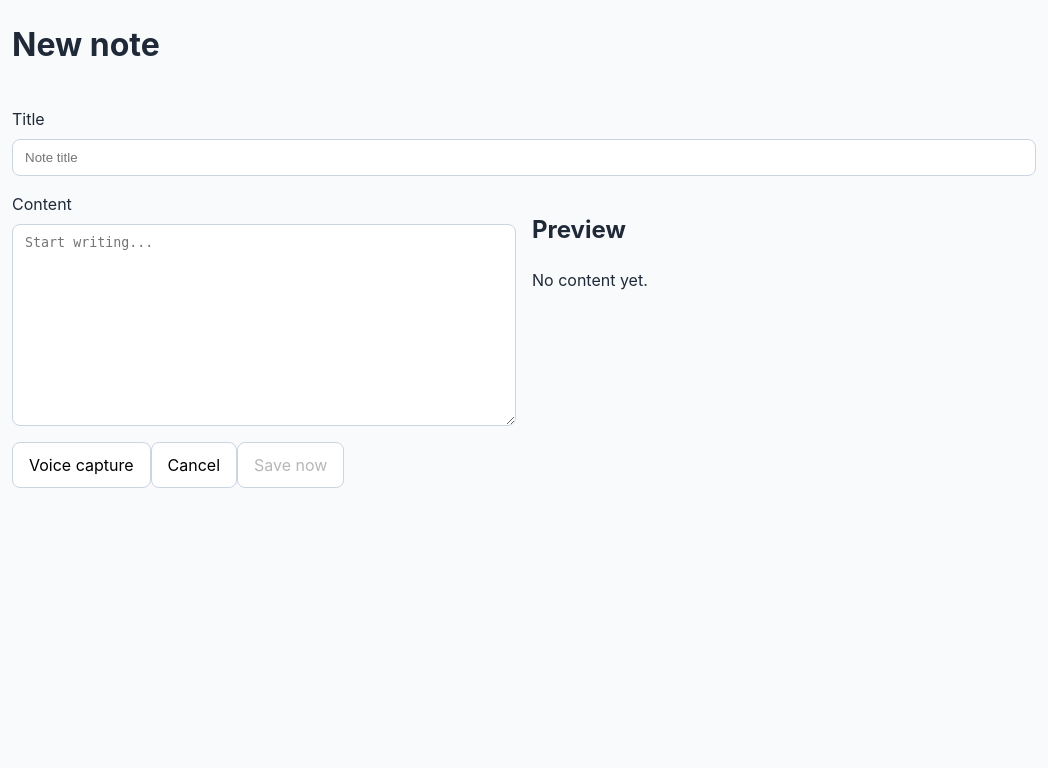
Test: NoteEditorPage API wiring › shows conflict resolution actions after a sync conflict
This screenshot has width=1048, height=768.
Type "Conflict note" into the field with placeholder "Note title" at x=524, y=157, box 12,139 -> 1036,176
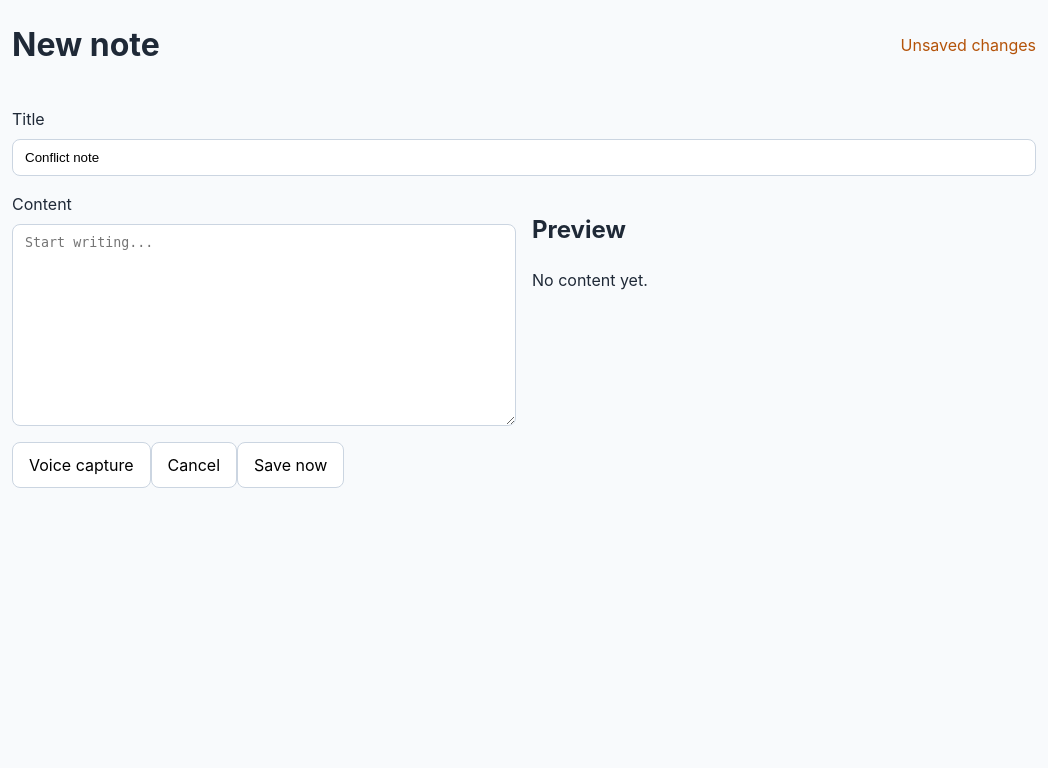
Type "Local edit" into the text box with placeholder "Start writing..." at x=264, y=325, box 12,224 -> 516,426
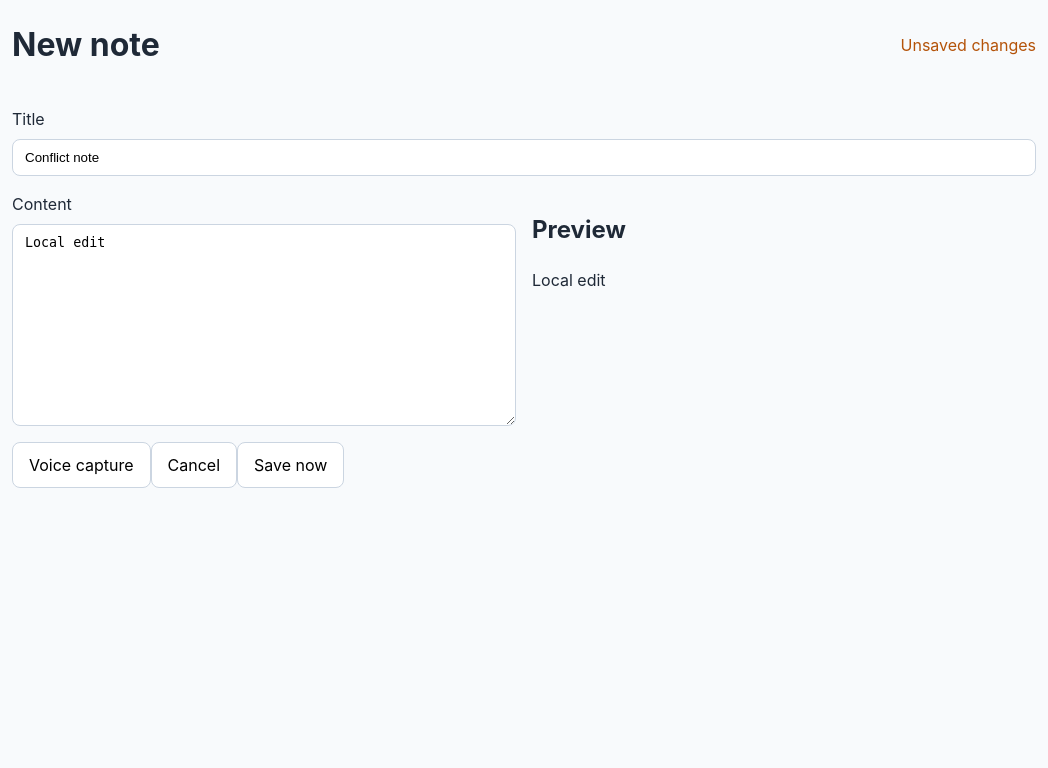
Click the button "Save now" at x=291, y=465, box 237,442 -> 344,488
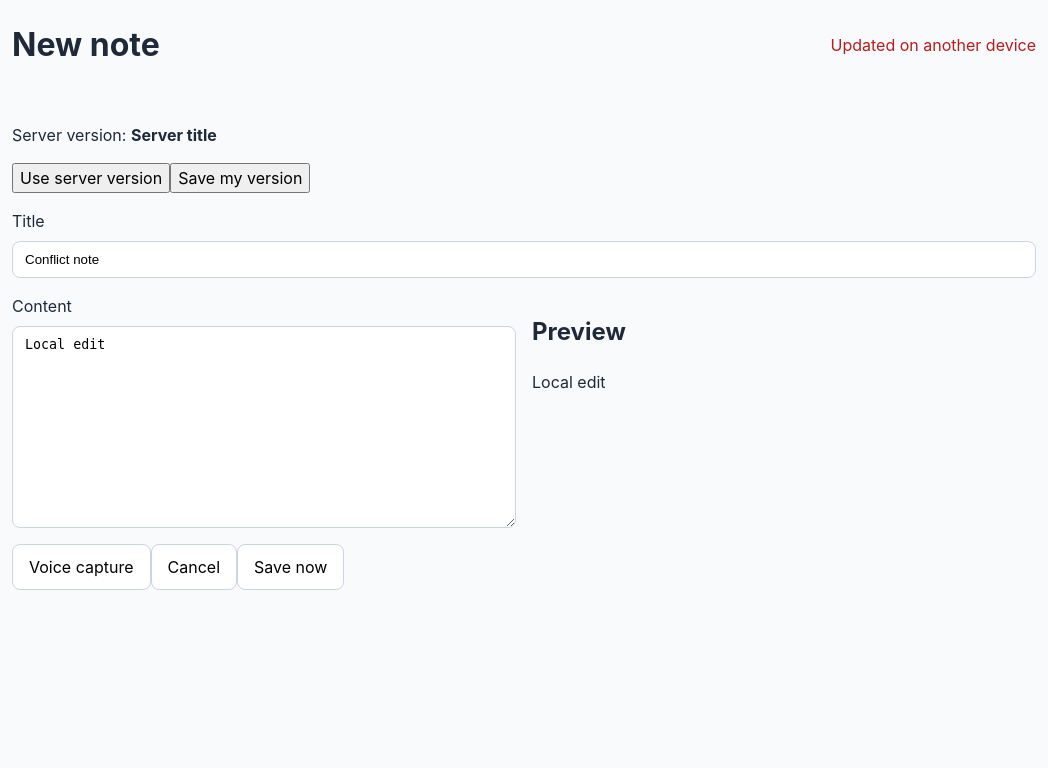
Now the element with test id "conflict-resolution" is shown, box 12,125 -> 310,193
Now the button "Use server version" is shown, box 12,163 -> 170,193
Now the button "Save my version" is shown, box 170,163 -> 310,193
